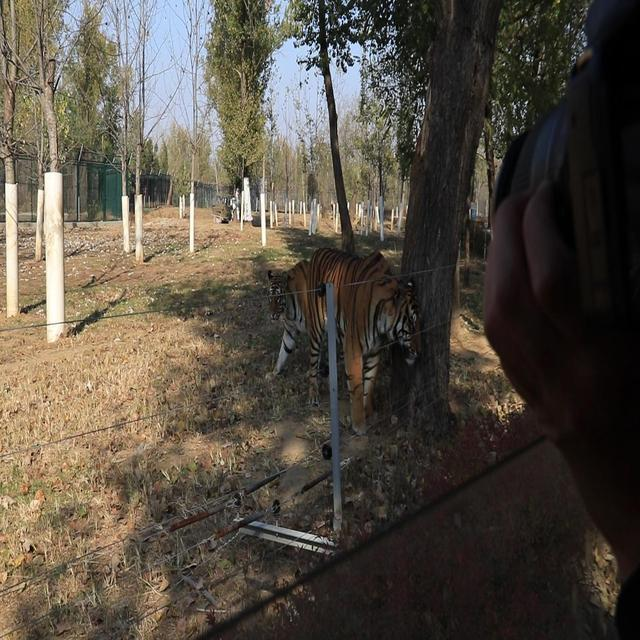tiger: (265, 246, 420, 435)
